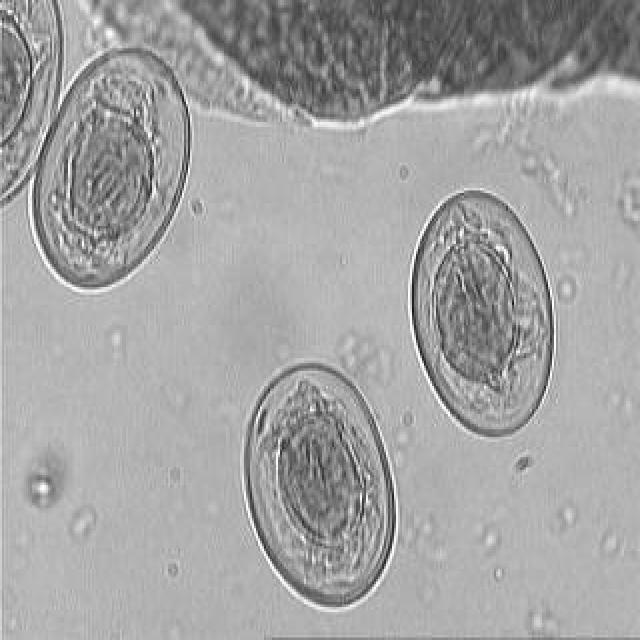Hymenolepis: (27, 43, 197, 300), (400, 180, 558, 442), (237, 359, 399, 611), (0, 0, 73, 214)
